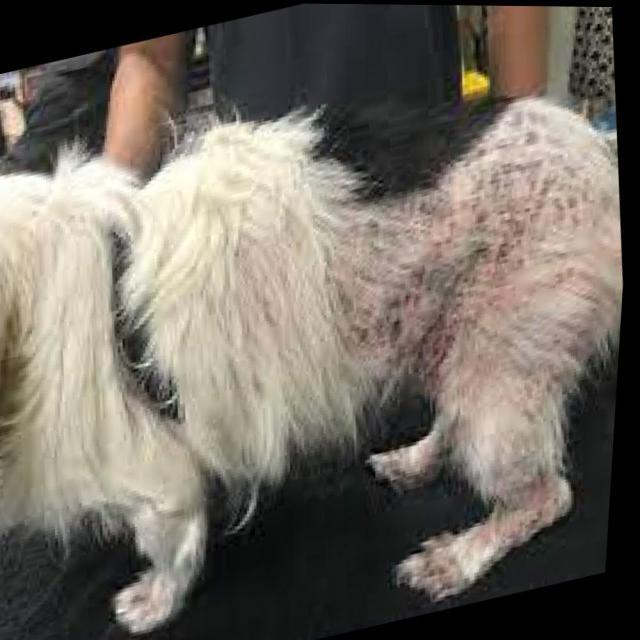allergic dermatitis: (309, 115, 587, 380)
